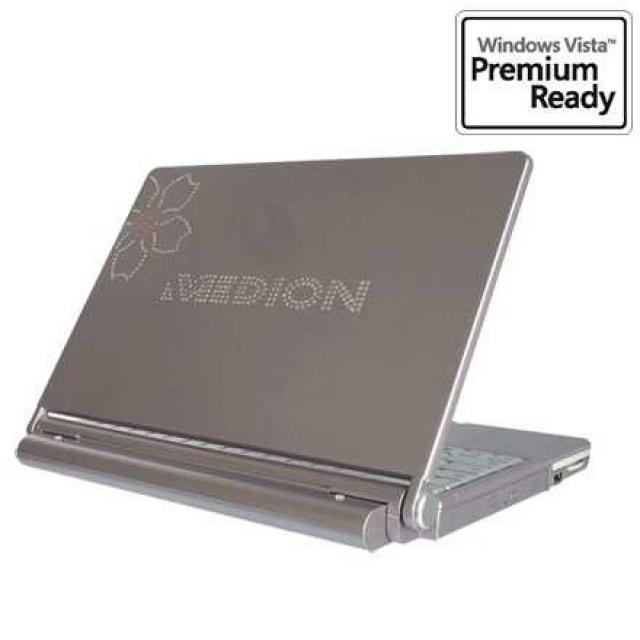laptop: (128, 169, 524, 506)
